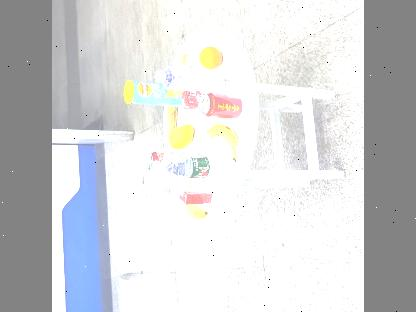Can: (199, 91, 241, 116)
Others: (178, 185, 218, 203)
Plastic Bottle: (148, 151, 230, 179), (156, 70, 238, 90)
